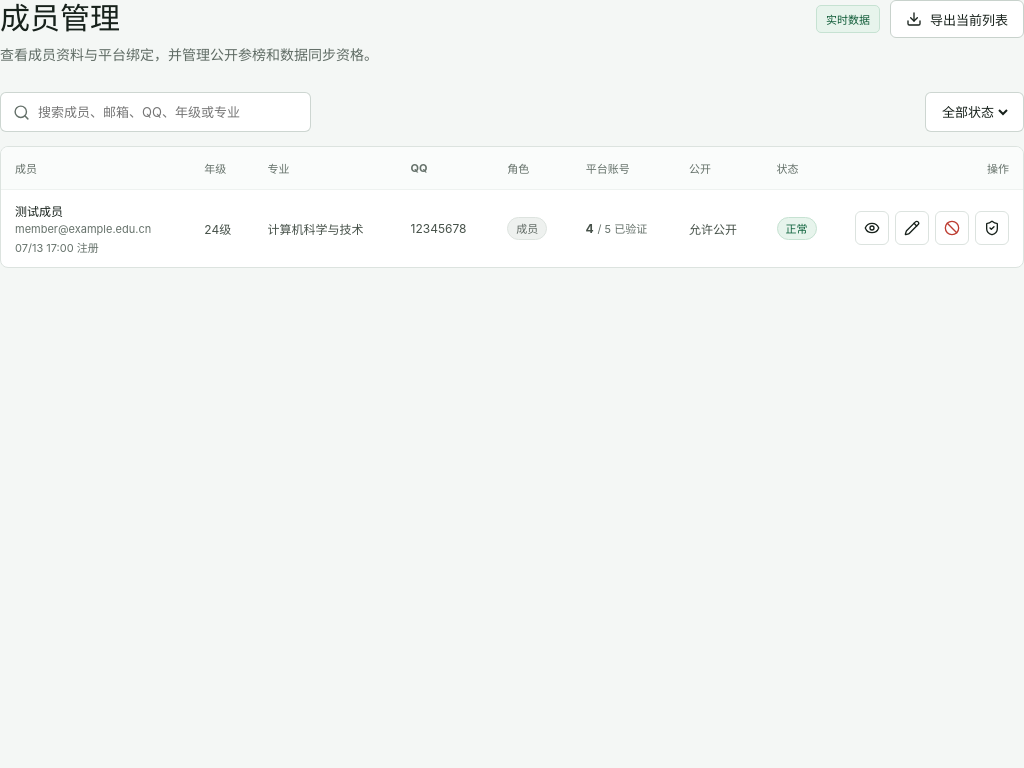
Test: AdminMembersPage with Supabase configured › confirms suspension with an optional reason and updates the row
Step 1. Click the button named "停用 测试成员" → (952, 228), box [935, 211, 969, 245]
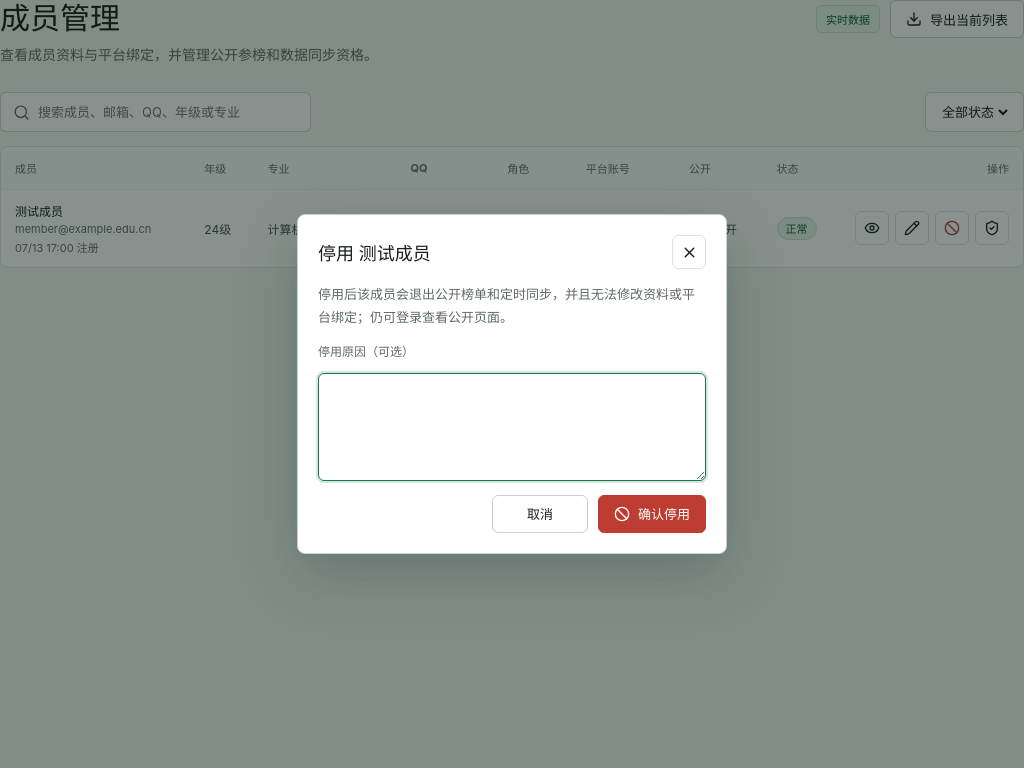
Now the dialog "停用 测试成员" shows "仍可登录查看公开页面", box [318, 286, 695, 324]
Step 2. Type "暂时离队" into the text box labelled "停用原因（可选）" → (512, 427), box [318, 373, 706, 481]
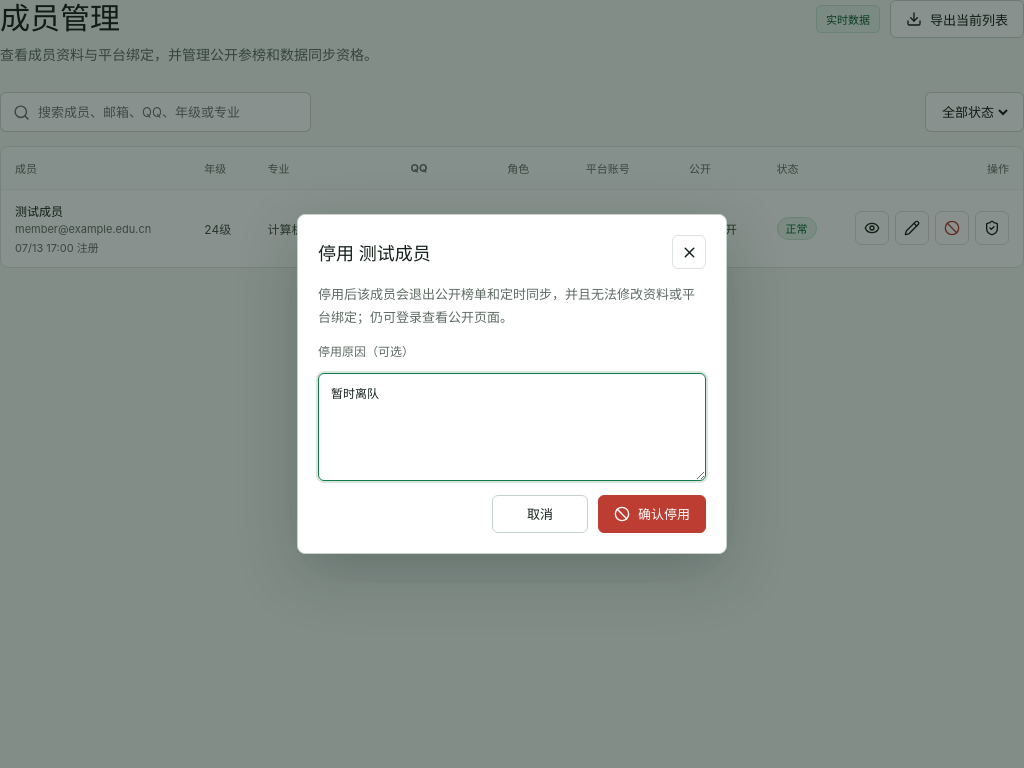
Step 3. Click the button "确认停用" → (652, 514), box [598, 495, 706, 533]
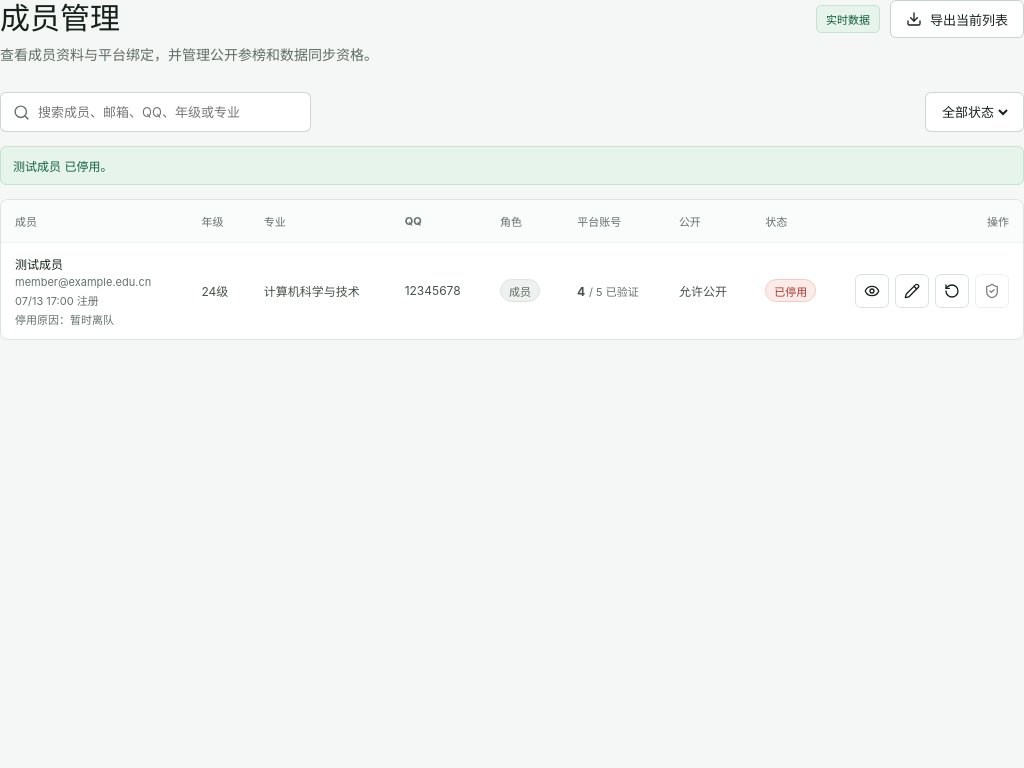
Now the text "已停用" is shown, box [765, 279, 816, 302]
Now the text "停用原因：暂时离队" is shown, box [15, 313, 114, 327]
Now the message reads "测试成员 已停用。", box [13, 159, 112, 174]
